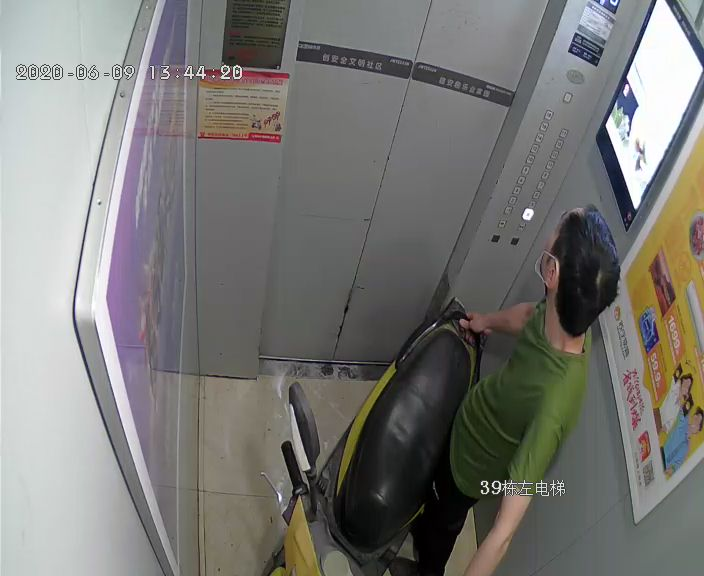Electric-bicycle: (291, 324, 469, 574)
